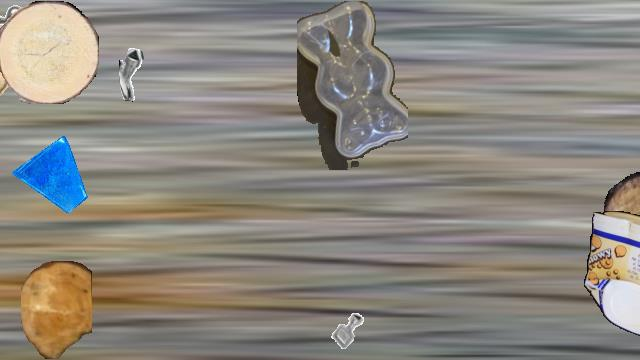glass: (12, 136, 88, 212)
metal: (119, 46, 175, 102), (323, 305, 373, 355), (0, 1, 28, 63)
plastic: (297, 1, 407, 169), (584, 211, 640, 335)
wood: (0, 1, 99, 103), (21, 261, 91, 359), (604, 171, 640, 275), (0, 1, 16, 127)
